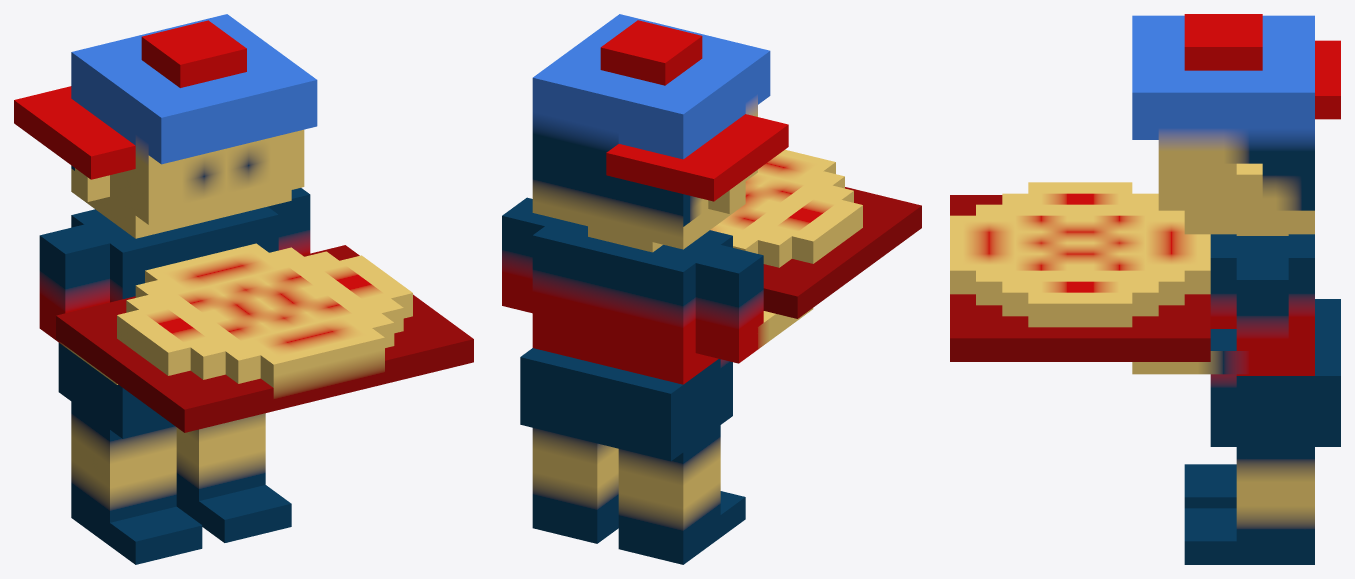
File: Pizza_Man_007B.dae
The picture shows the model from 3 angles, left to right: view 1: azimuth 30°, elevation 25°; view 2: azimuth 150°, elevation 25°; view 3: azimuth 270°, elevation 25°; orthographic projection. The views are drawn at different scales.
Parts seen in each view (by area): view 1: pizza_men_19; view 2: pizza_men_19; view 3: pizza_men_19.
Part boxes in pixels (bbox=[...]): pizza_men_19: bbox=[14, 14, 473, 564]; pizza_men_19: bbox=[502, 14, 921, 564]; pizza_men_19: bbox=[950, 14, 1340, 564].
Size of the model in its own units: 13 by 21 by 15.
Materials: 1 (1 with a texture image).
